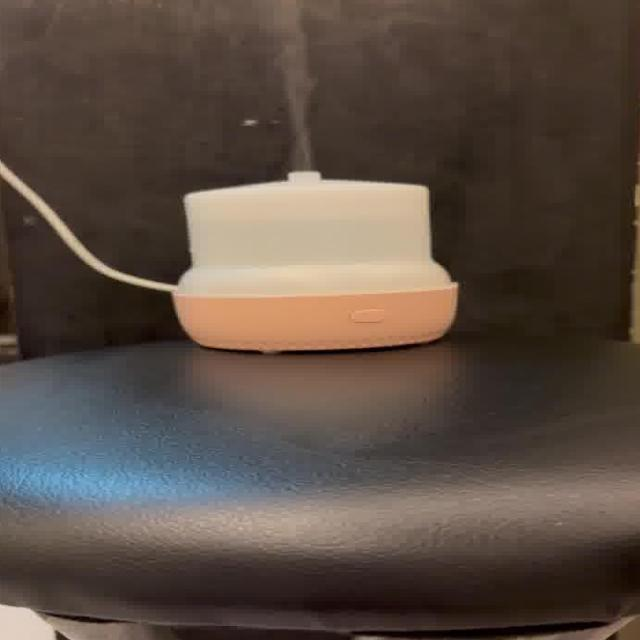fire: (271, 40, 318, 167)
